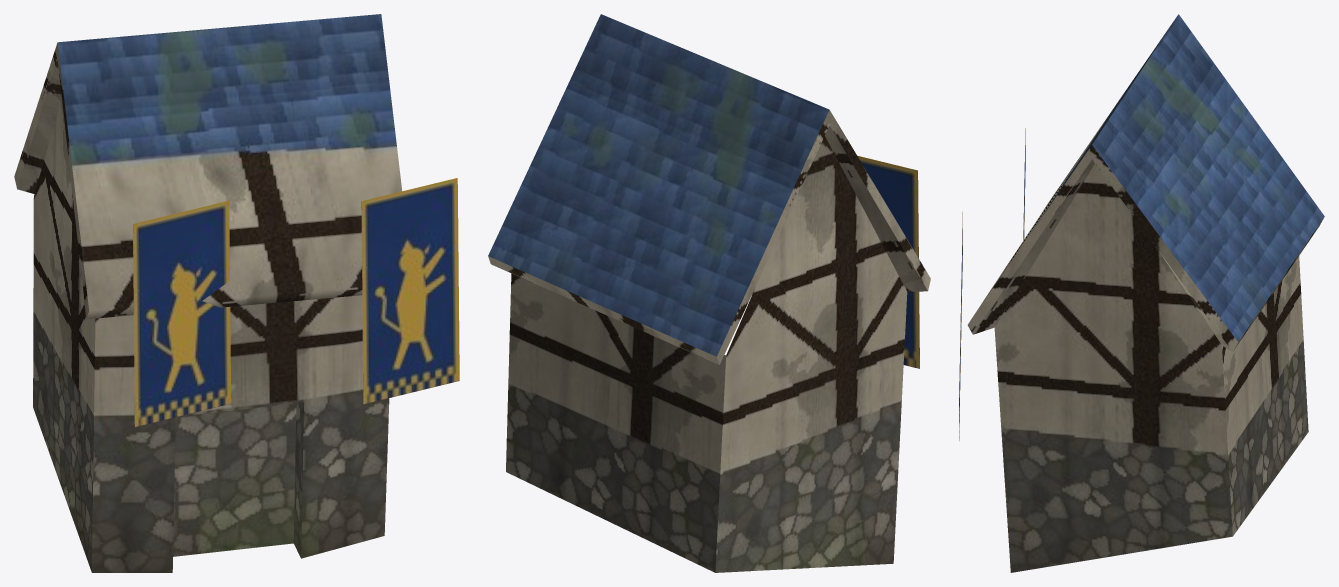
The model's file is house_09_card_lod1.glb.
The picture shows the model from 3 angles, left to right: view 1: azimuth 30°, elevation 25°; view 2: azimuth 150°, elevation 25°; view 3: azimuth 270°, elevation 25°; orthographic projection. The views are drawn at different scales.
Visible parts, largest first — view 1: house_09_game_card; view 2: house_09_game_card; view 3: house_09_game_card.
Boxes of the visible parts, <box> form: house_09_game_card: <box>14,14,459,572</box>; house_09_game_card: <box>488,14,930,572</box>; house_09_game_card: <box>959,14,1324,572</box>.
Bounding box in the file's own units: 5.05 × 6.81 × 4.95.
Materials: 1 (1 with a texture image).
